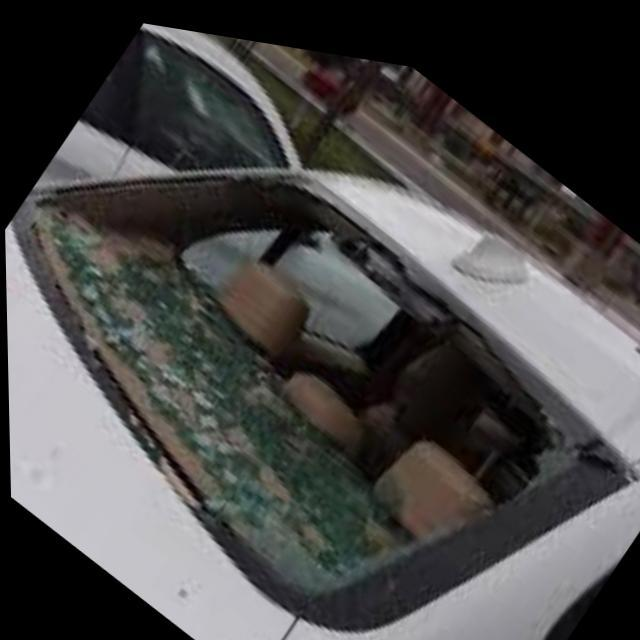glass shatter: (17, 165, 580, 607)
